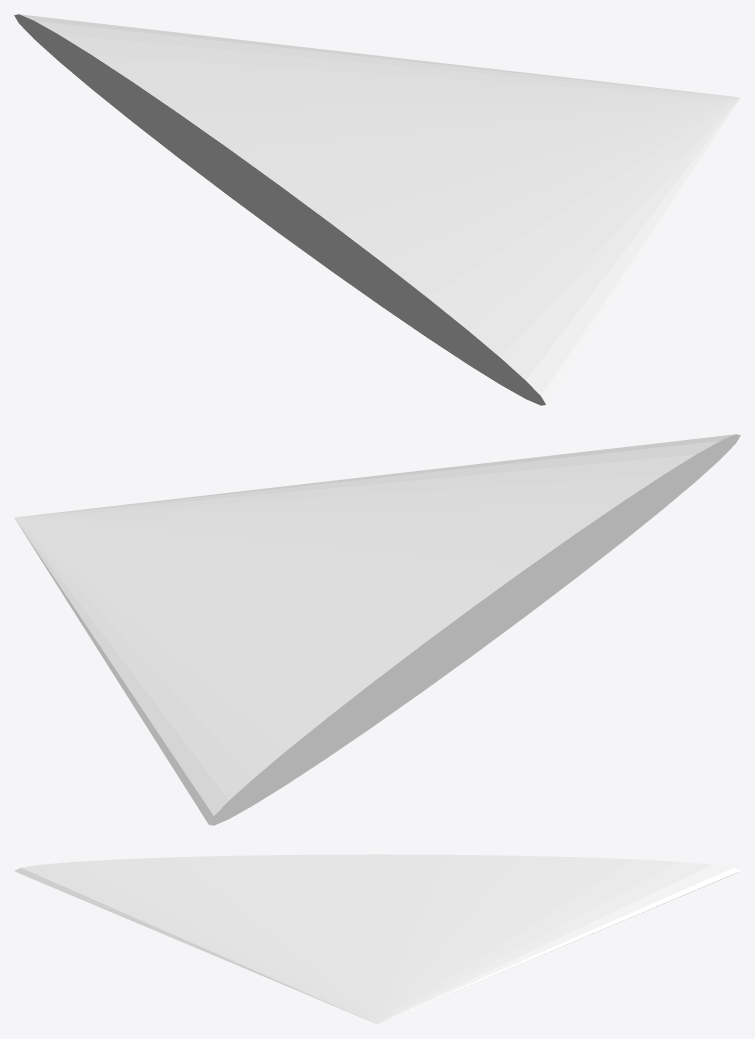
Rendered from dir.obj.
The picture shows the model from 3 angles, top to bottom: view 1: azimuth 30°, elevation 25°; view 2: azimuth 150°, elevation 25°; view 3: azimuth 270°, elevation 25°; orthographic projection. The views are drawn at different scales.
Visible parts, largest first — view 1: Cone; view 2: Cone; view 3: Cone.
Boxes of the visible parts, left/top/right/bottom form: Cone: left=14, top=14, right=740, bottom=405; Cone: left=14, top=434, right=740, bottom=825; Cone: left=14, top=854, right=740, bottom=1024.
Size of the model in its own units: 0.2 by 0.02 by 0.4.
Materials: 1 (1 with a texture image).
